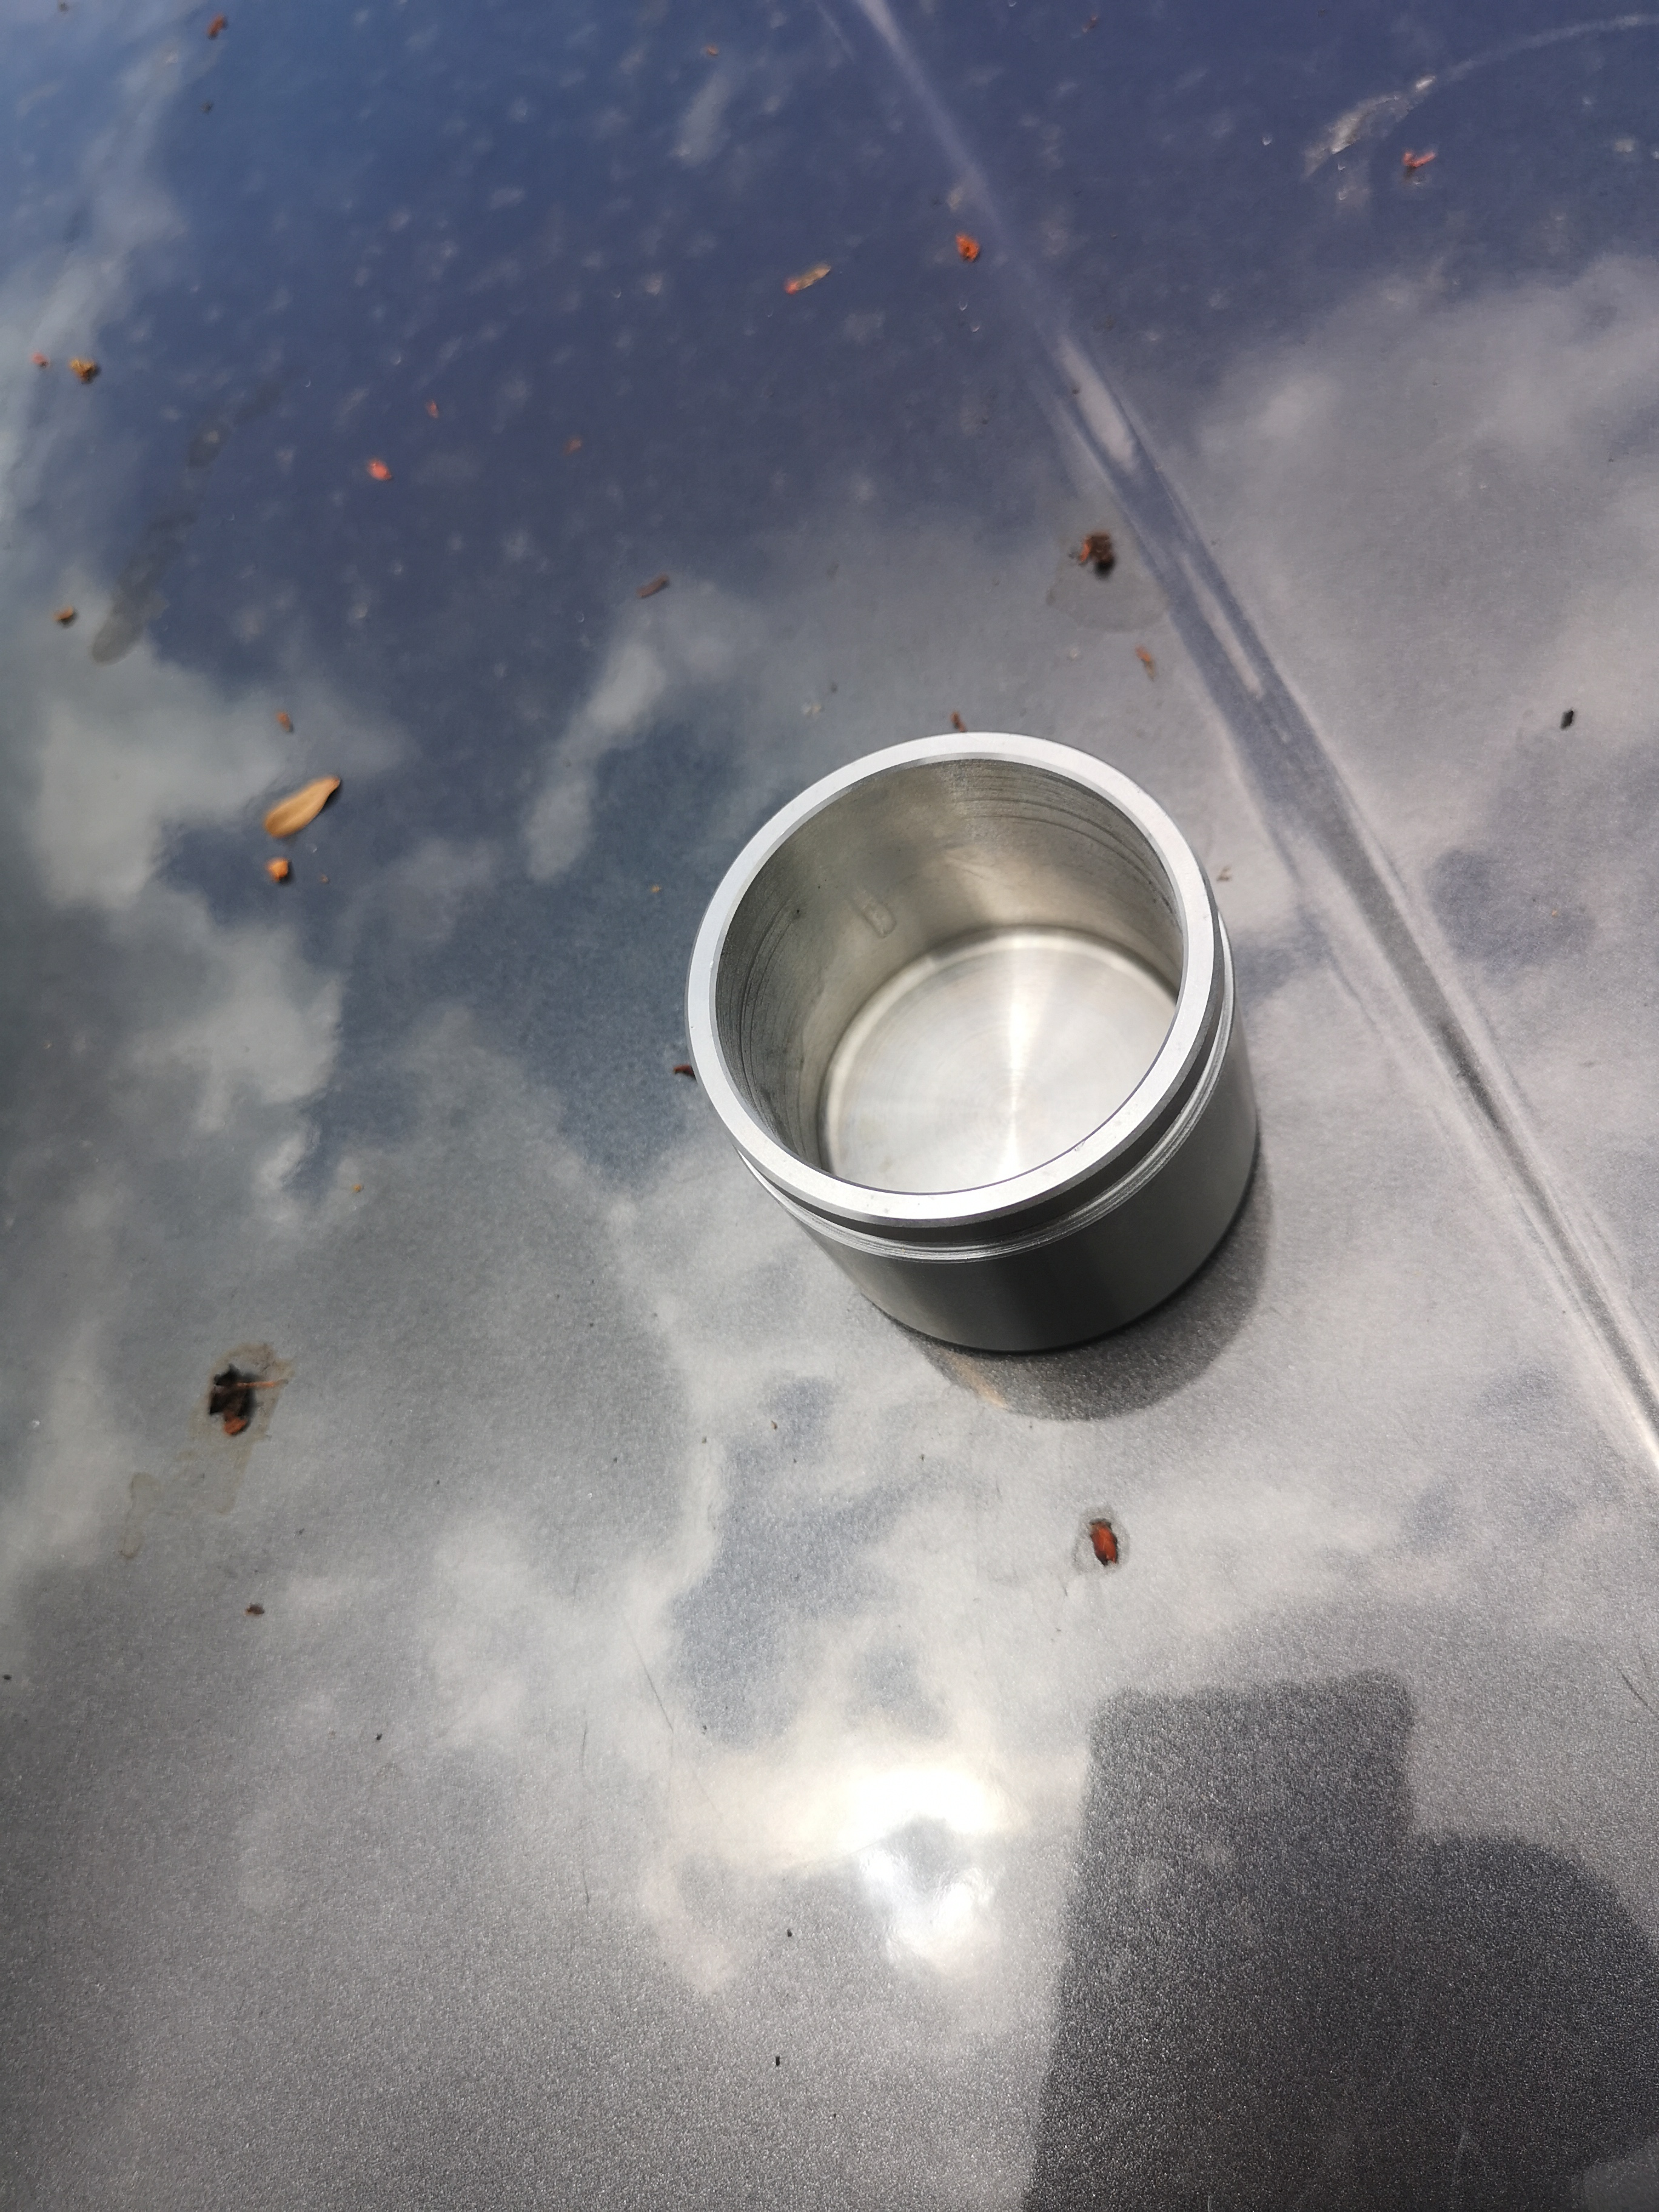ลูกสูบดิสเบรค: (666, 700, 1335, 1371)
